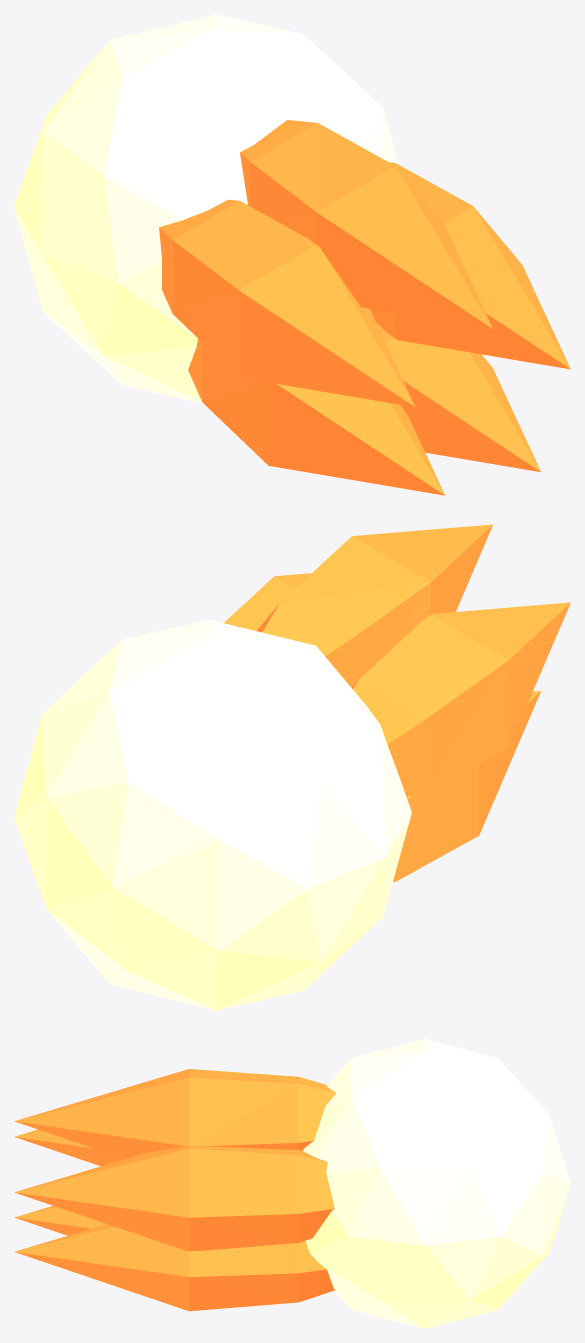
The model's file is projectile_flame_orb_v2.glb.
3 views of the same model, one above another, from view 1: azimuth 30°, elevation 25°; view 2: azimuth 150°, elevation 25°; view 3: azimuth 270°, elevation 25° (orthographic). The views are drawn at different scales.
Parts seen in each view (by area): view 1: core, plume_4, plume_0, plume_3, plume_1, plume_2; view 2: core, plume_4, plume_0, plume_3, plume_1; view 3: core, plume_1, plume_0, plume_2, plume_4, plume_3.
Part boxes in pixels (x1,y1,x2,y2): core: (14, 14, 398, 403); plume_4: (159, 199, 415, 407); plume_0: (240, 120, 492, 329); plume_3: (188, 338, 444, 495); plume_1: (369, 162, 570, 369); plume_2: (376, 323, 540, 472); core: (14, 619, 411, 1010); plume_4: (352, 602, 570, 796); plume_0: (256, 524, 492, 687); plume_3: (393, 691, 540, 882); plume_1: (224, 573, 311, 630); core: (303, 1039, 570, 1328); plume_1: (14, 1145, 334, 1251); plume_0: (14, 1069, 336, 1158); plume_2: (14, 1224, 334, 1311); plume_4: (14, 1129, 124, 1166); plume_3: (14, 1206, 106, 1235).
Size of the model in its own units: 0.38 by 0.38 by 0.725.
